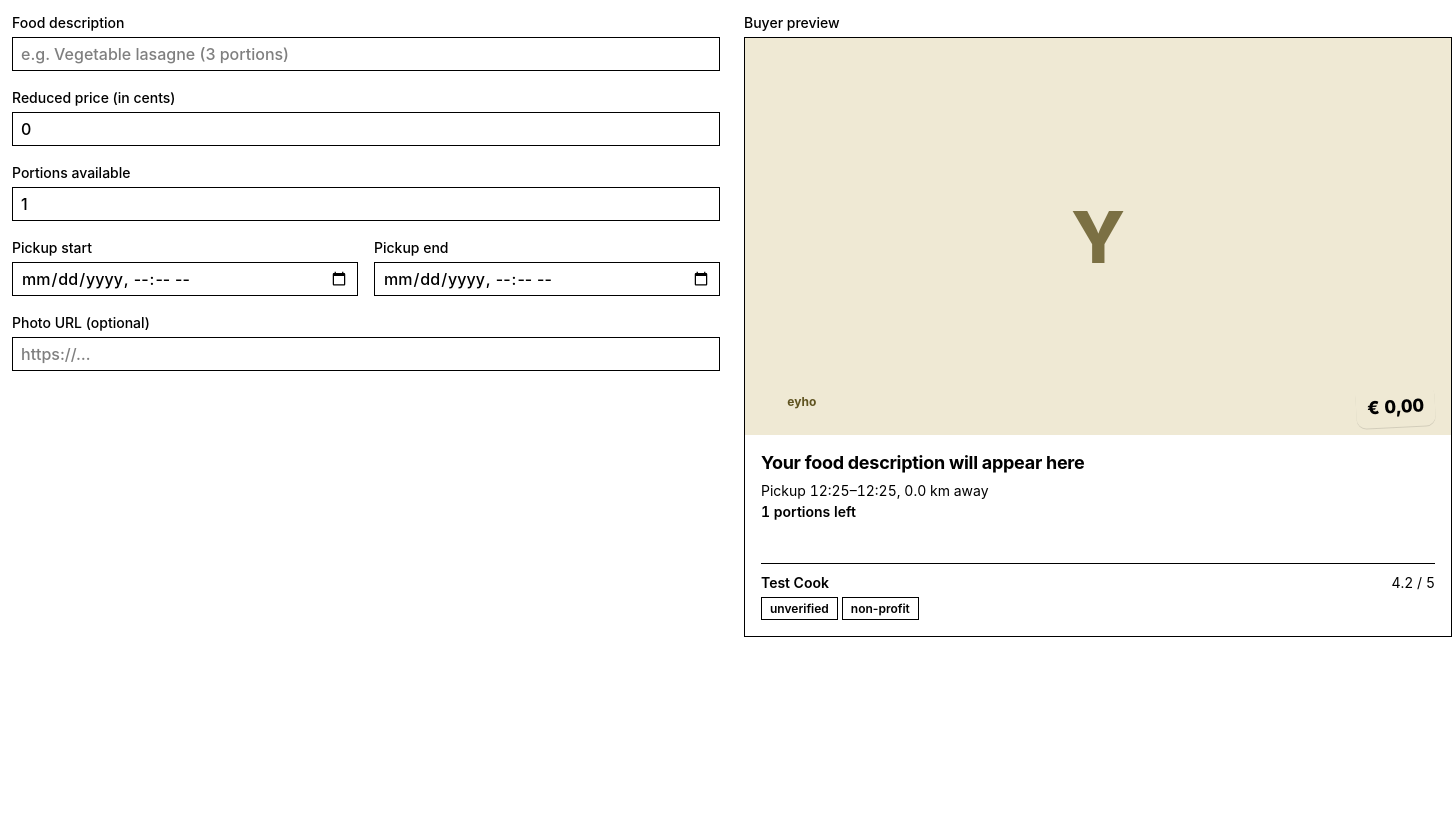
it: ListingForm — live preview › updates the preview food description as the user types
The width and height of the screenshot is (1452, 822).
Type "Vegetable lasagne" into the field labelled "Food description". click: (366, 54)
box: [12,37,720,71]
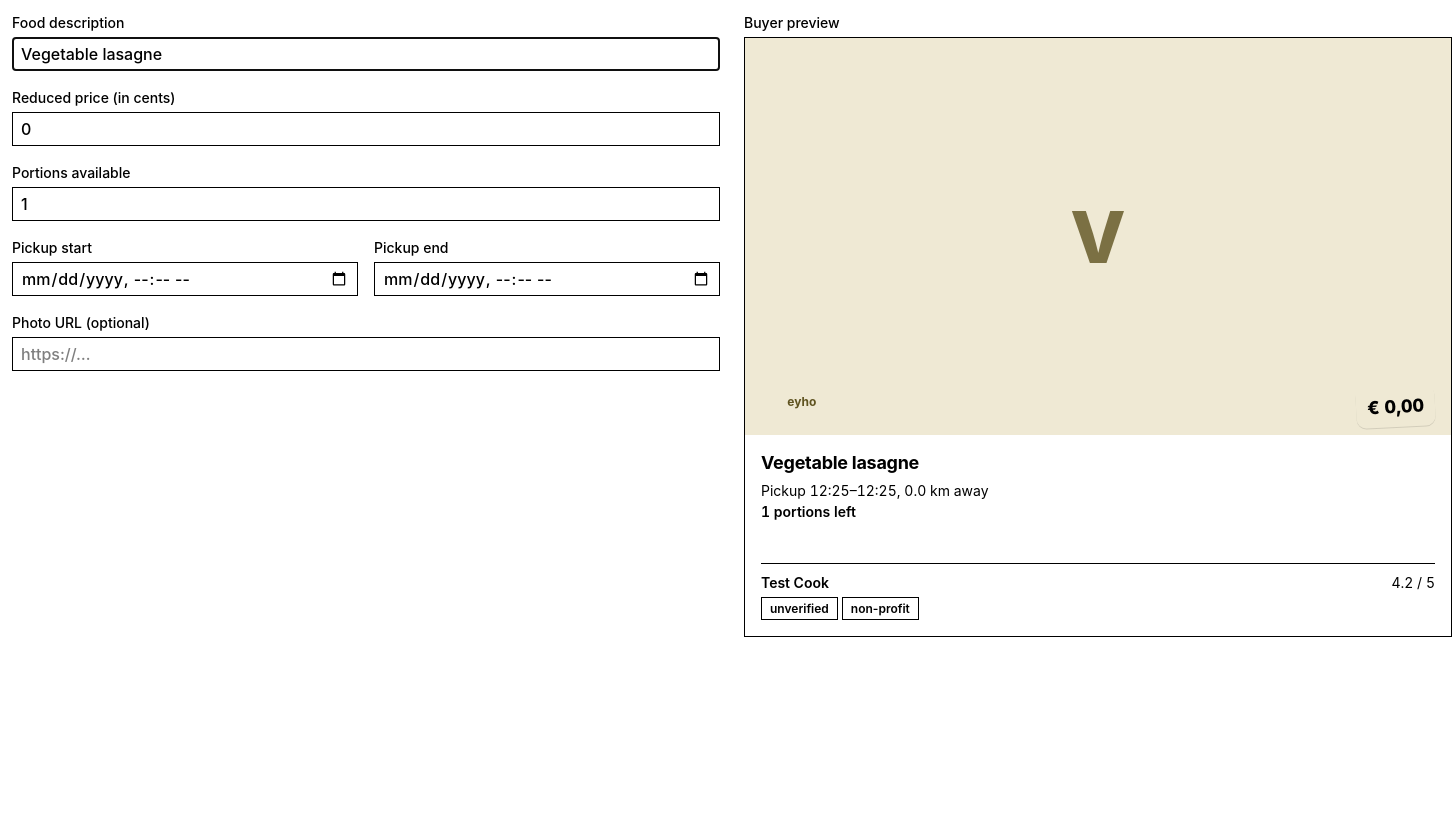
Now the heading "Vegetable lasagne" is shown, box [761,452,919,473]
